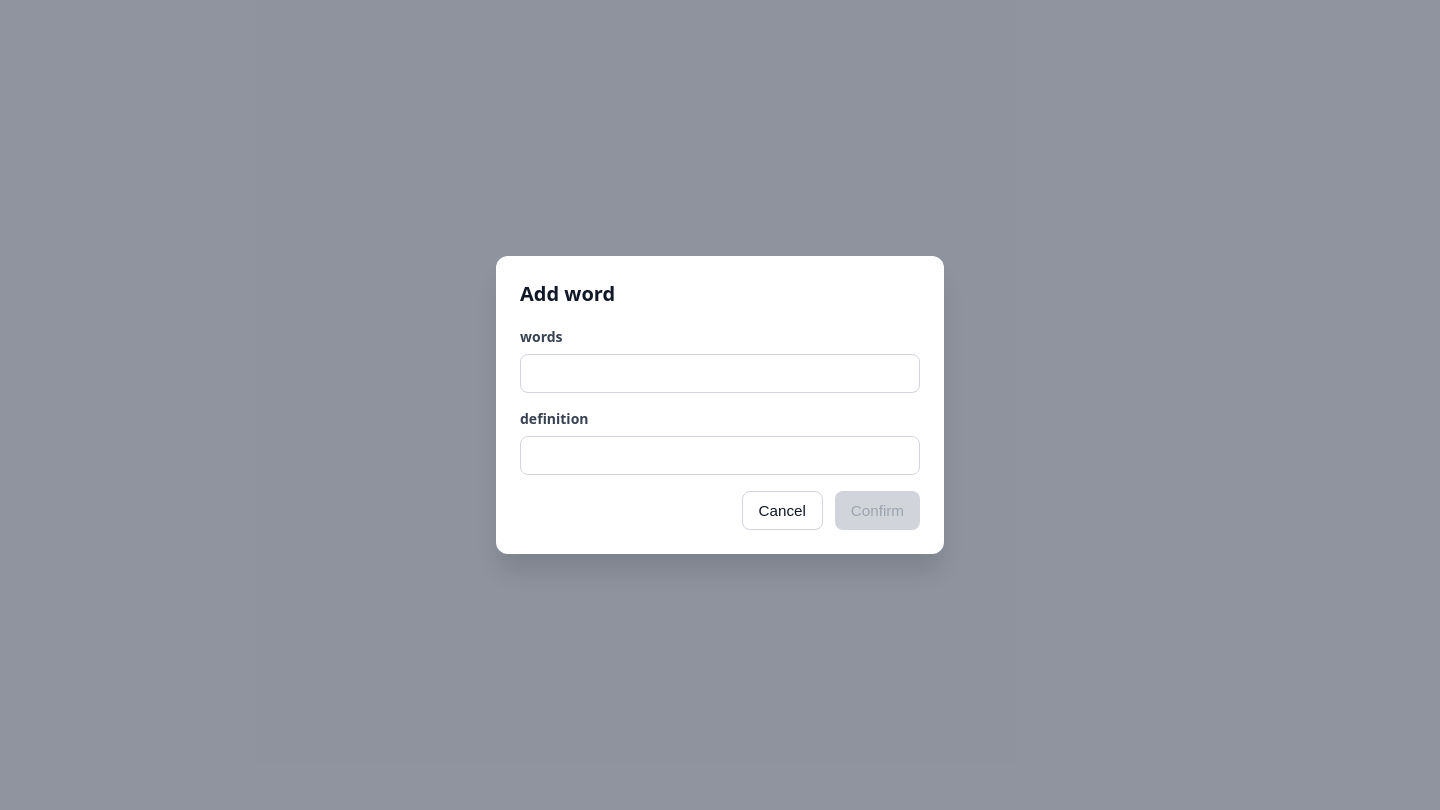
AddWordModal › shows a warning and disables confirm when the word already exists
In the field labelled "words": (720, 374) [520,354,920,393], type "爱好"
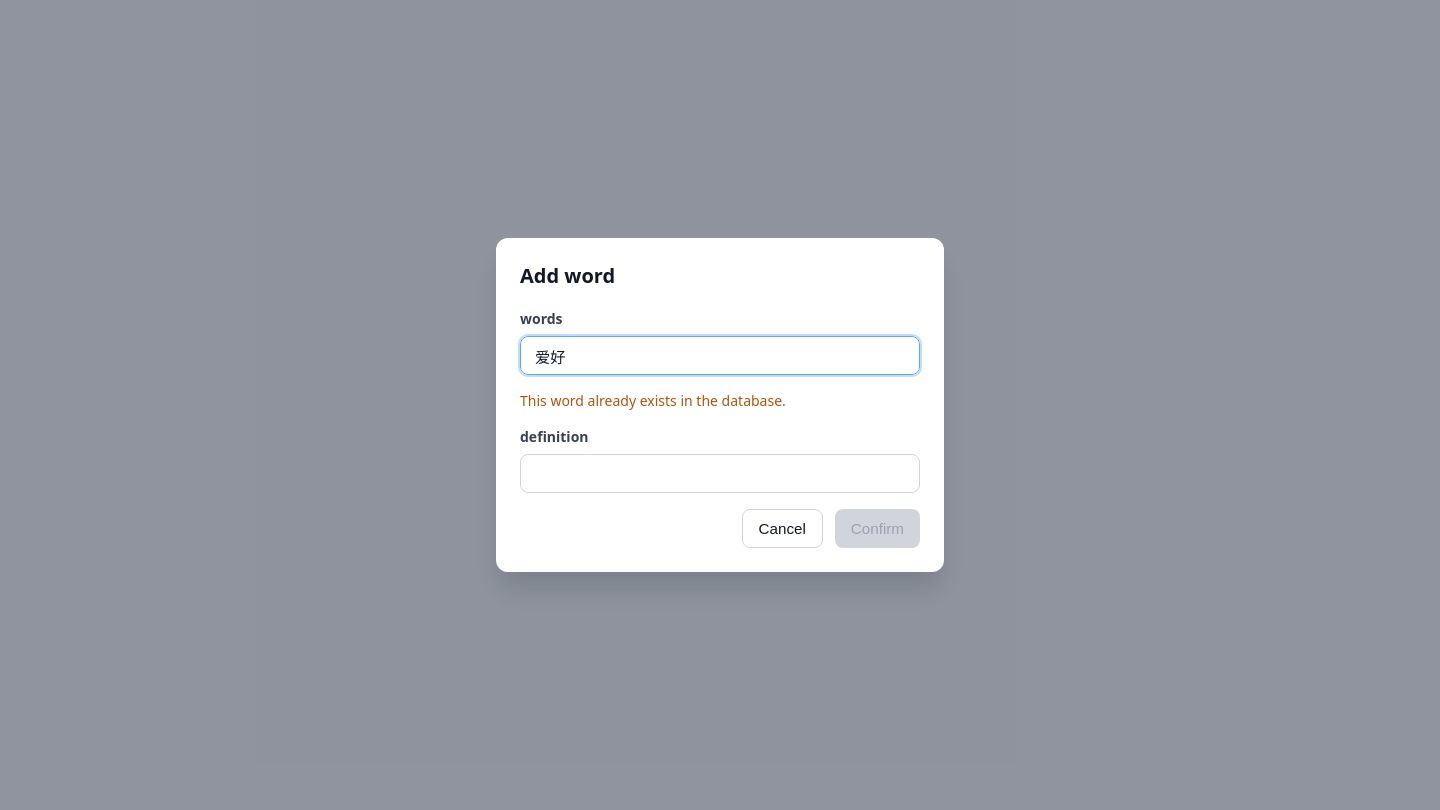
Expected: the button "Confirm" is disabled, [835,509,920,548]
Expected: the text "This word already exists in the database." is shown, [520,391,786,410]
